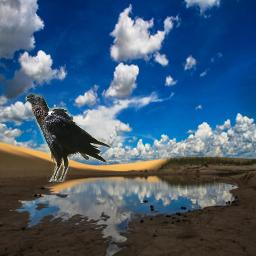Crow: (25, 93, 111, 182)
